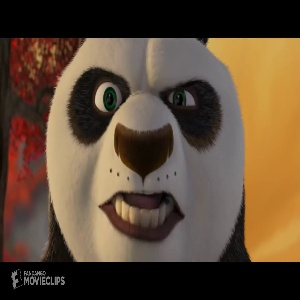po: (37, 38, 253, 262)
